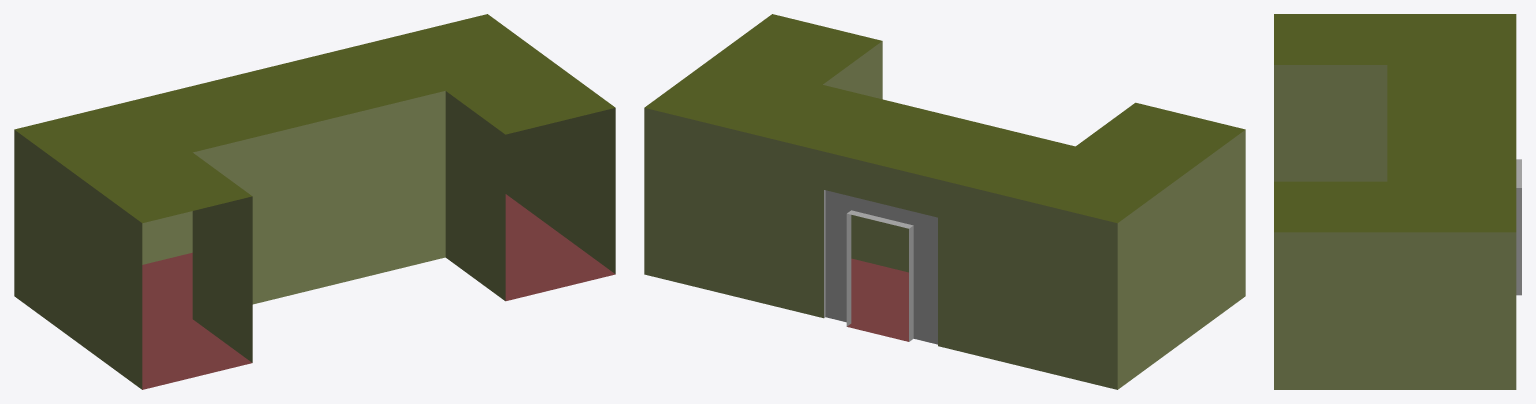
File: MOD_Room.fbx
3 views of the same model, side by side, from view 1: azimuth 30°, elevation 25°; view 2: azimuth 150°, elevation 25°; view 3: azimuth 270°, elevation 25° (orthographic). The views are drawn at different scales.
Visible parts, largest first — view 1: MOD_Room; view 2: MOD_Room; view 3: MOD_Room.
Part boxes in pixels (box(x1,y1,x2,y2)): MOD_Room: box(14, 14, 615, 389); MOD_Room: box(644, 14, 1245, 389); MOD_Room: box(1274, 14, 1521, 389).
Size of the model in its own units: 626 by 211 by 300.
